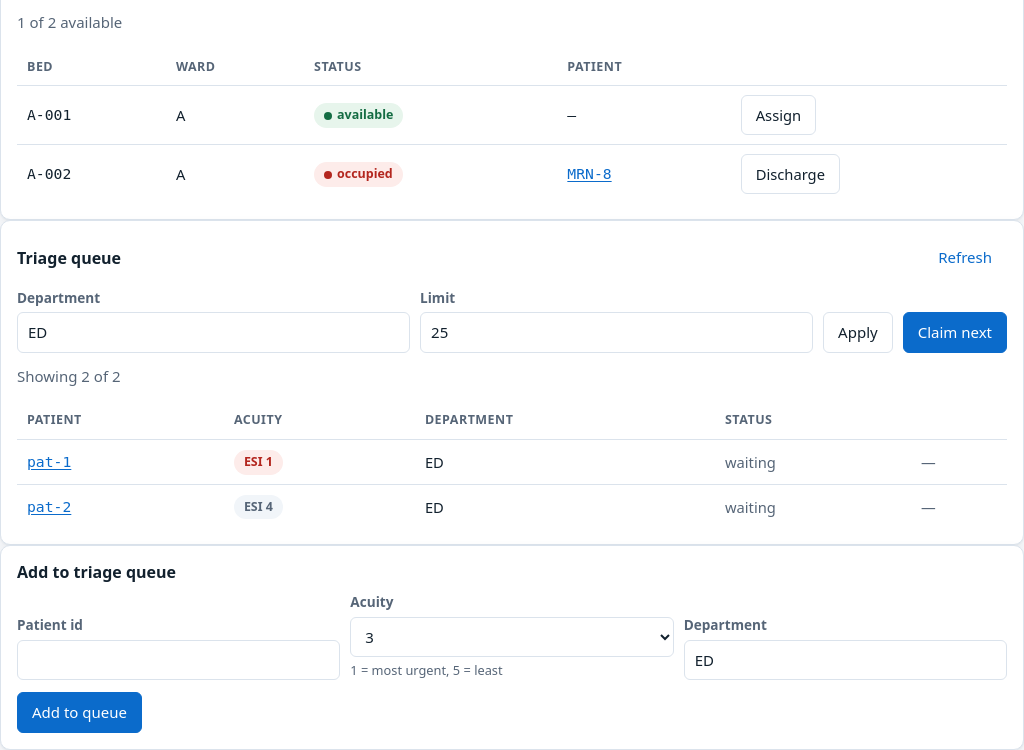
PatientFlowPage › submits a valid enqueue and clears the form
This screenshot has width=1024, height=750.
(page scrolled)
Type "pat-99" into the field labelled "Patient id" at (179, 660), box left=17, top=640, right=340, bottom=680
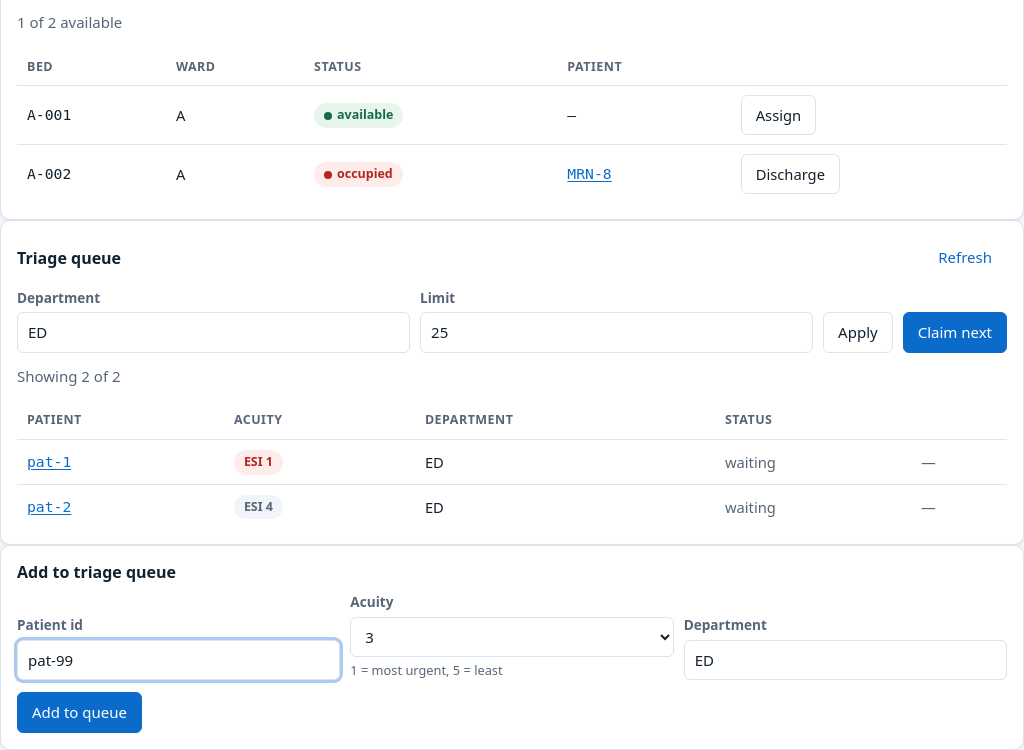
Select "2" in the dropdown labelled "Acuity" at (512, 637), box left=350, top=617, right=674, bottom=657
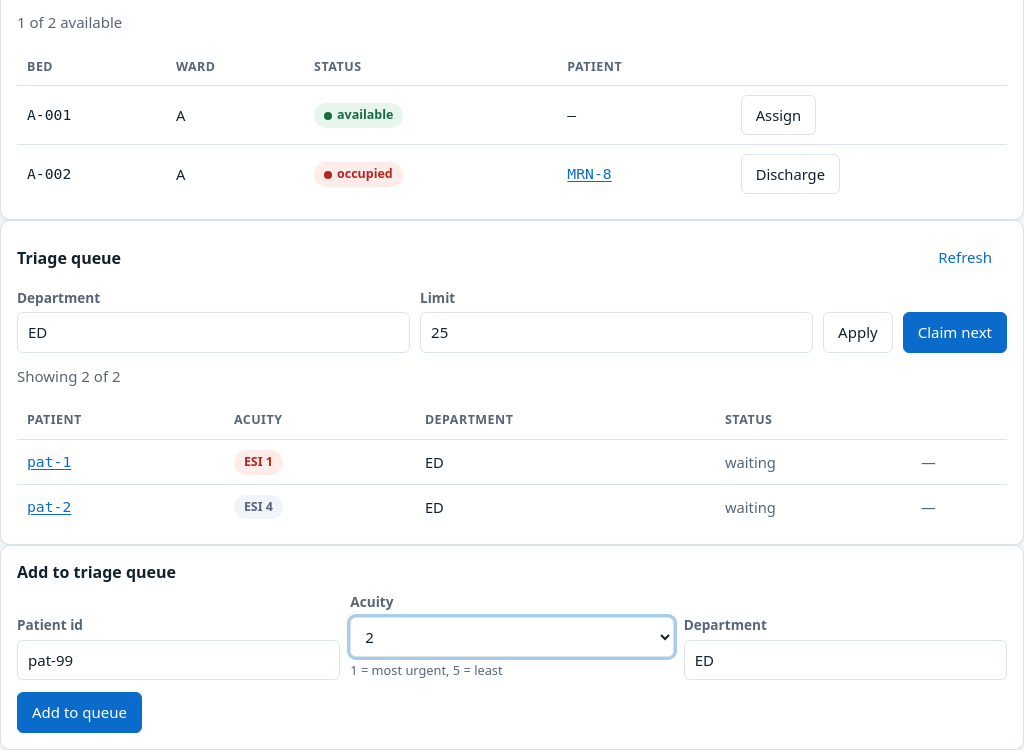
Replace the text in the field labelled "Department" in the row of "1 = most urgent, 5 = least" with "ICU" at (845, 660), box left=684, top=640, right=1007, bottom=680
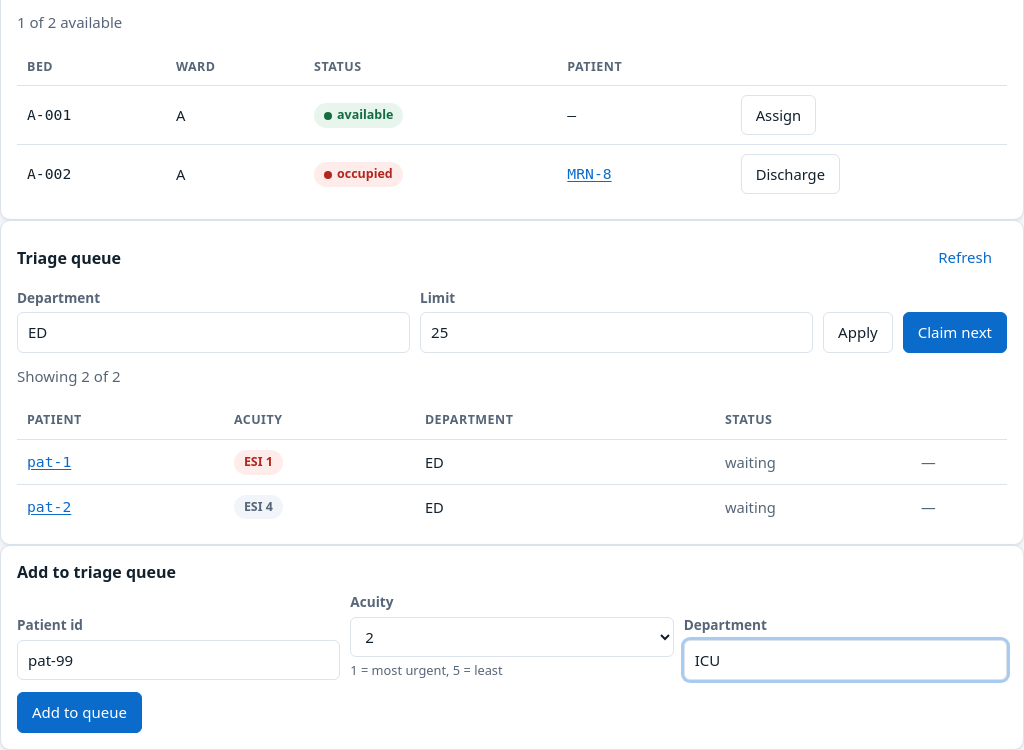
Click the button "Add to queue" at (80, 712), box left=17, top=692, right=142, bottom=732
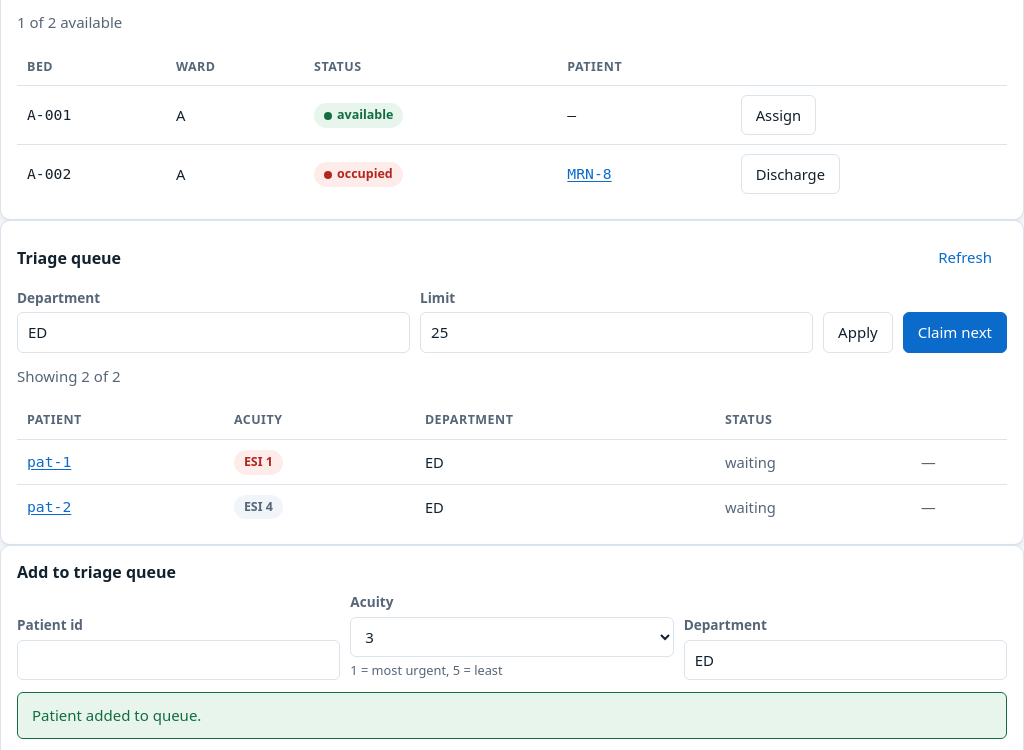
Expected: the text "Patient added to queue." is shown, left=32, top=704, right=201, bottom=726
Expected: the field labelled "Patient id" is empty, left=17, top=640, right=340, bottom=680
